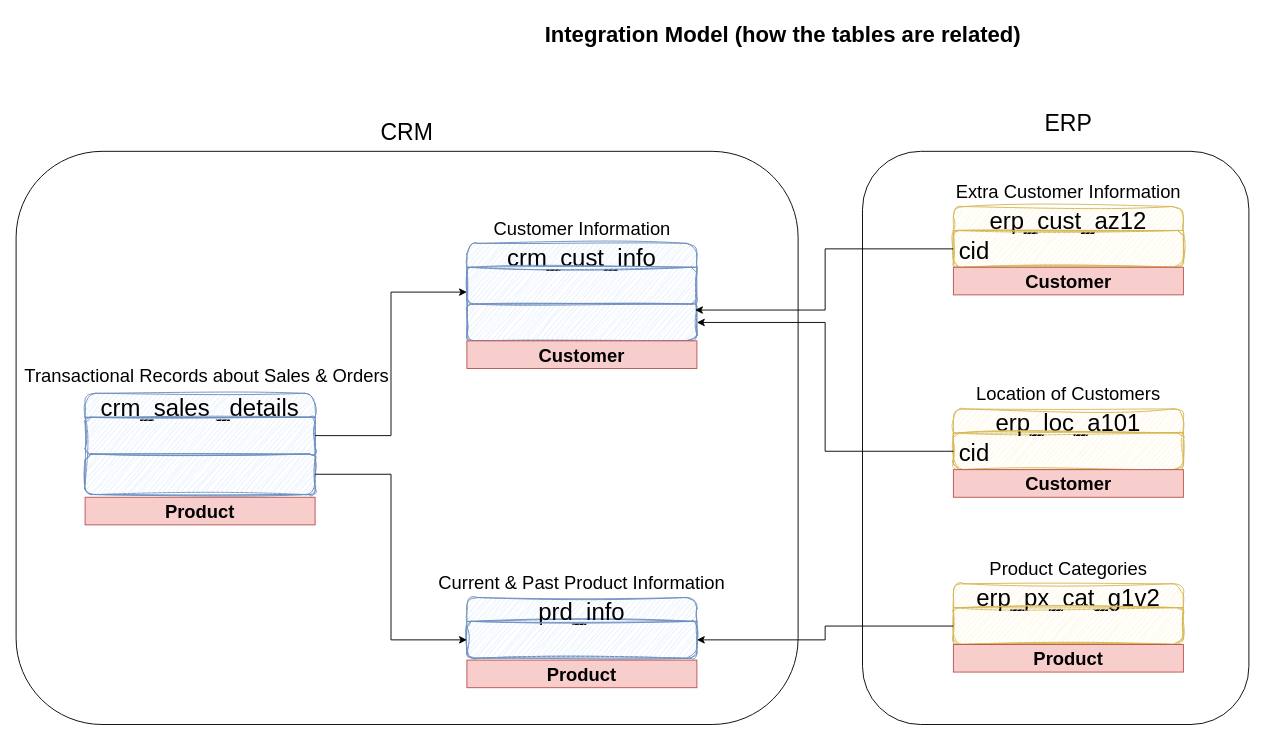
Image size: 1265x741. Some labels were removed from this diagram. Each missing label, with the centre of its shape:
"cst_id" belongs at (x=581, y=285).
"cst_key" belongs at (x=581, y=322).
"cust_id" belongs at (x=199, y=473).
"id" belongs at (x=1067, y=625).
"prd_id" belongs at (x=581, y=639).
"prd_key" belongs at (x=199, y=435).
